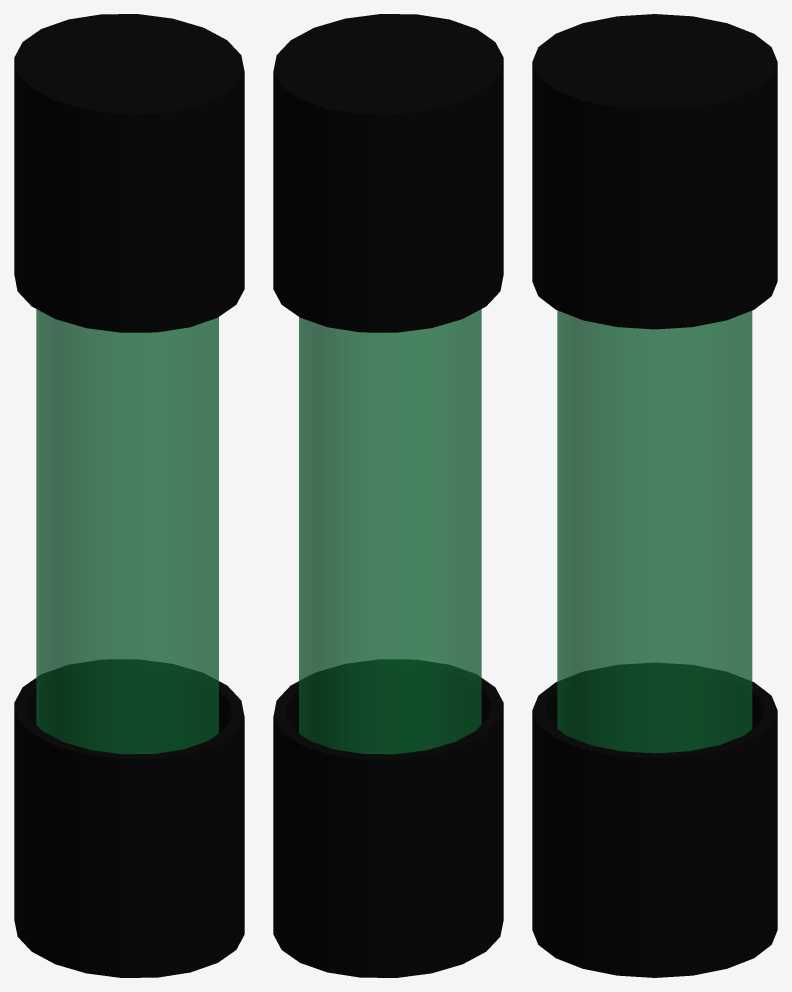
The model's file is Fuse.fbx.
3 renders of one model, left to right at view 1: azimuth 30°, elevation 25°; view 2: azimuth 150°, elevation 25°; view 3: azimuth 270°, elevation 25°, orthographic.
Parts seen in each view (by area): view 1: pCylinder4; view 2: pCylinder4; view 3: pCylinder4.
Part boxes in pixels (box(x1,y1,x2,y2)): pCylinder4: box(14, 14, 244, 977); pCylinder4: box(273, 14, 503, 977); pCylinder4: box(532, 14, 777, 977).
Size of the model in its own units: 1.13 by 4.75 by 1.22.
